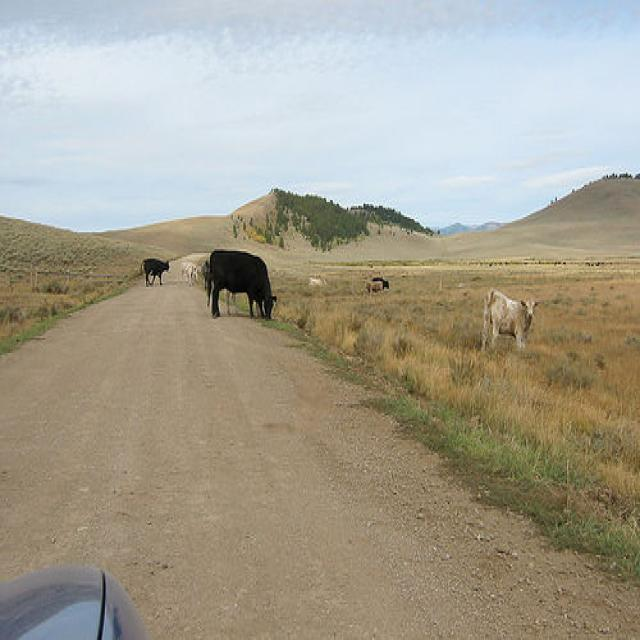Vehicle: (2, 565, 149, 630)
